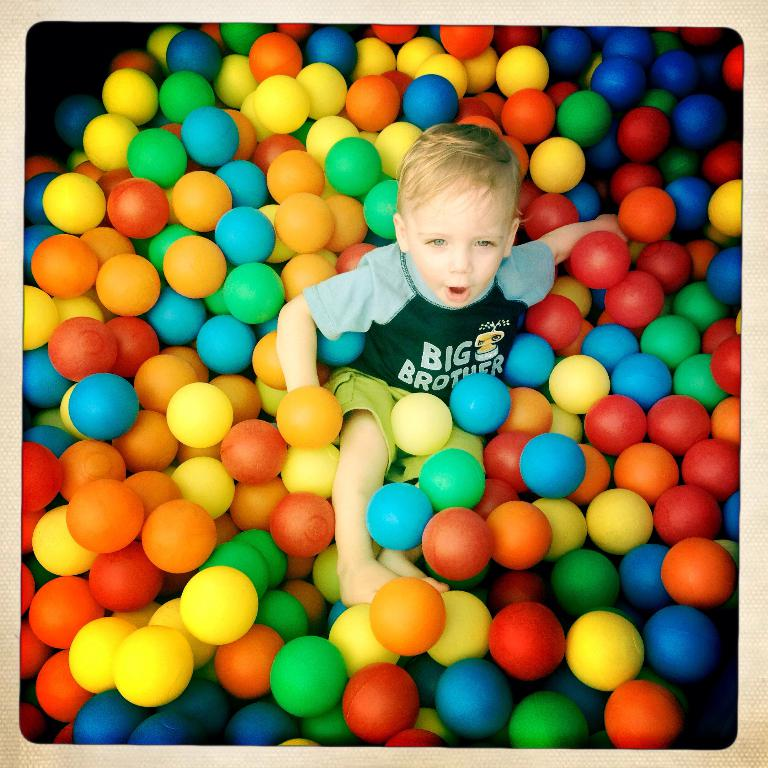Person: (276, 123, 629, 604)
